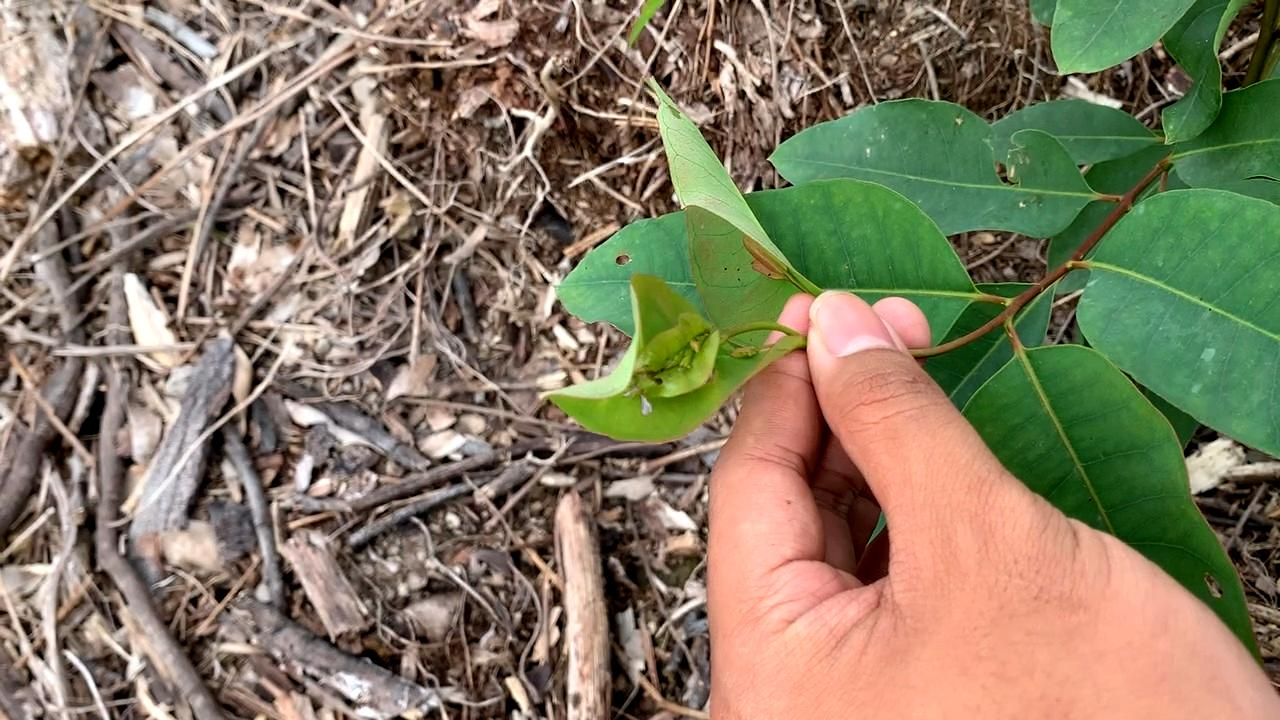Leaf Roller - Leaf: (533, 267, 819, 461)
